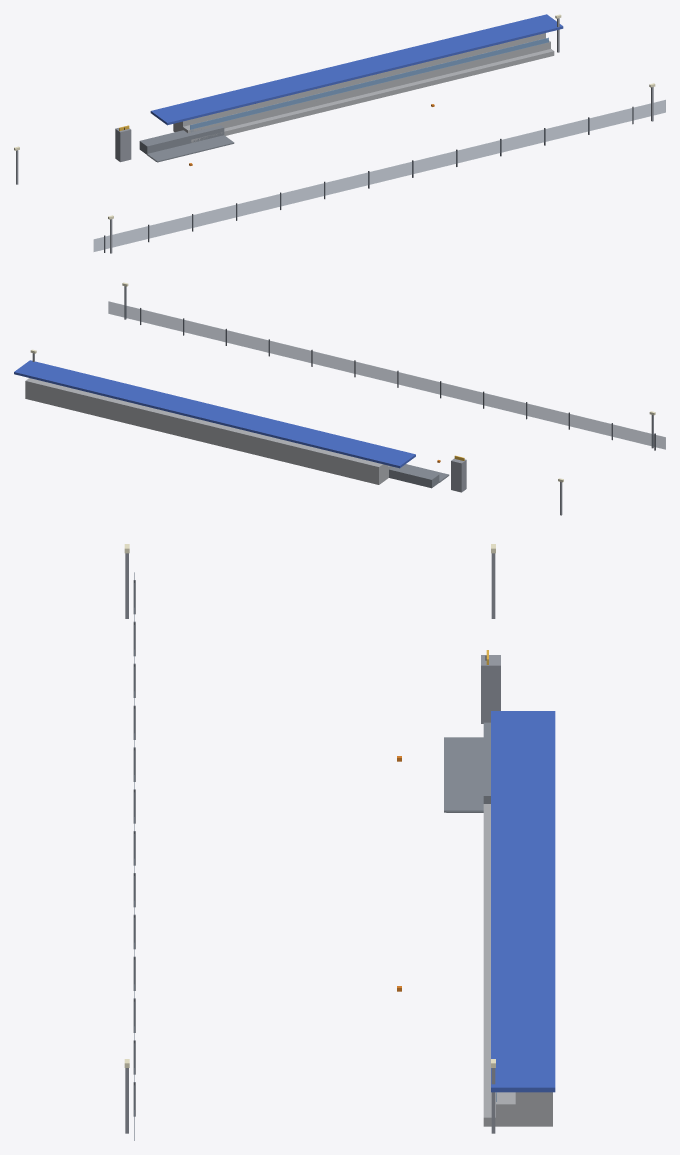
Rendered from venue_1.obj.
3 views of the same model, one above another, from view 1: azimuth 30°, elevation 25°; view 2: azimuth 150°, elevation 25°; view 3: azimuth 270°, elevation 25° (orthographic). The views are drawn at different scales.
Size of the model in its own units: 520 by 32 by 174.
